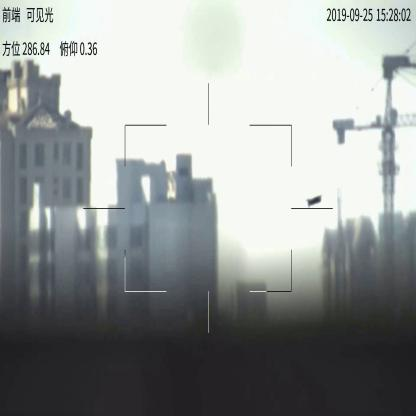uav: (307, 192, 322, 208)
